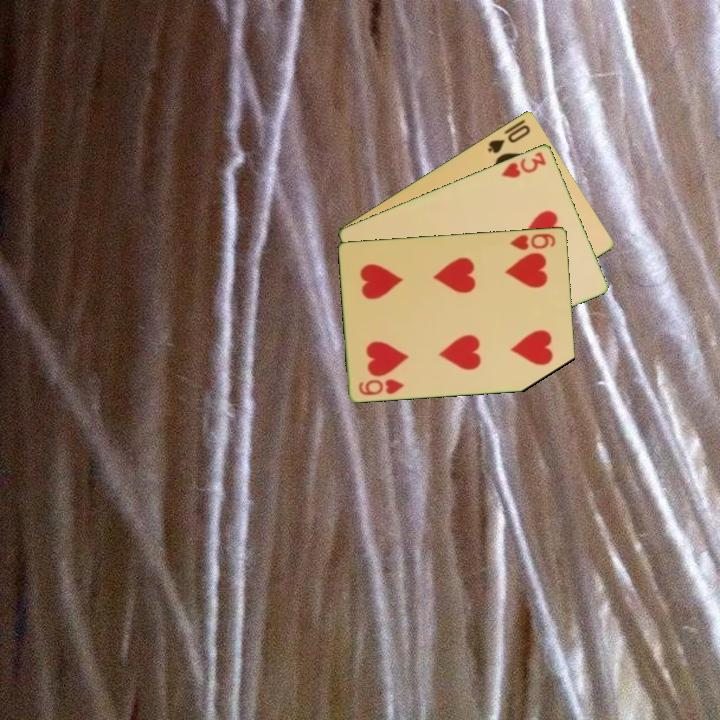10s: (484, 120, 533, 156)
3h: (498, 148, 549, 181)
6h: (355, 375, 408, 398), (507, 229, 559, 252)
